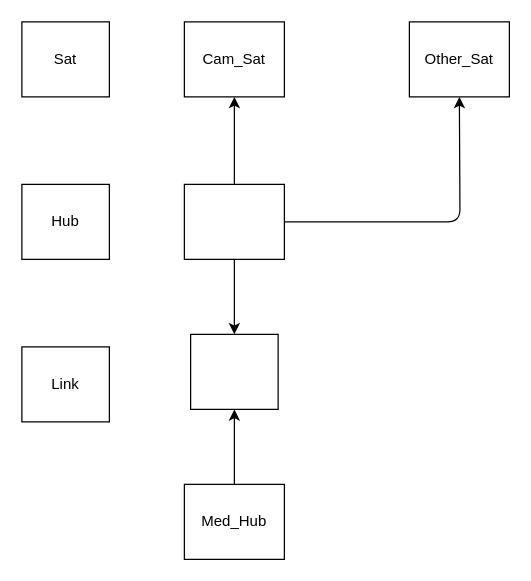
This 531x581 diagram has some shape labels left out. The box of each missing label's shape, as (x1, y1, x2, y2) in pixels:
P_M_Link: (189, 333, 278, 409)
Patient_Hub: (183, 183, 284, 259)
